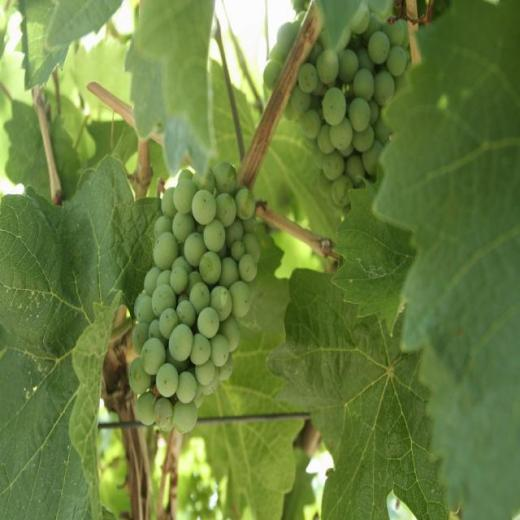Orange: (128, 161, 262, 435), (261, 0, 409, 218)
